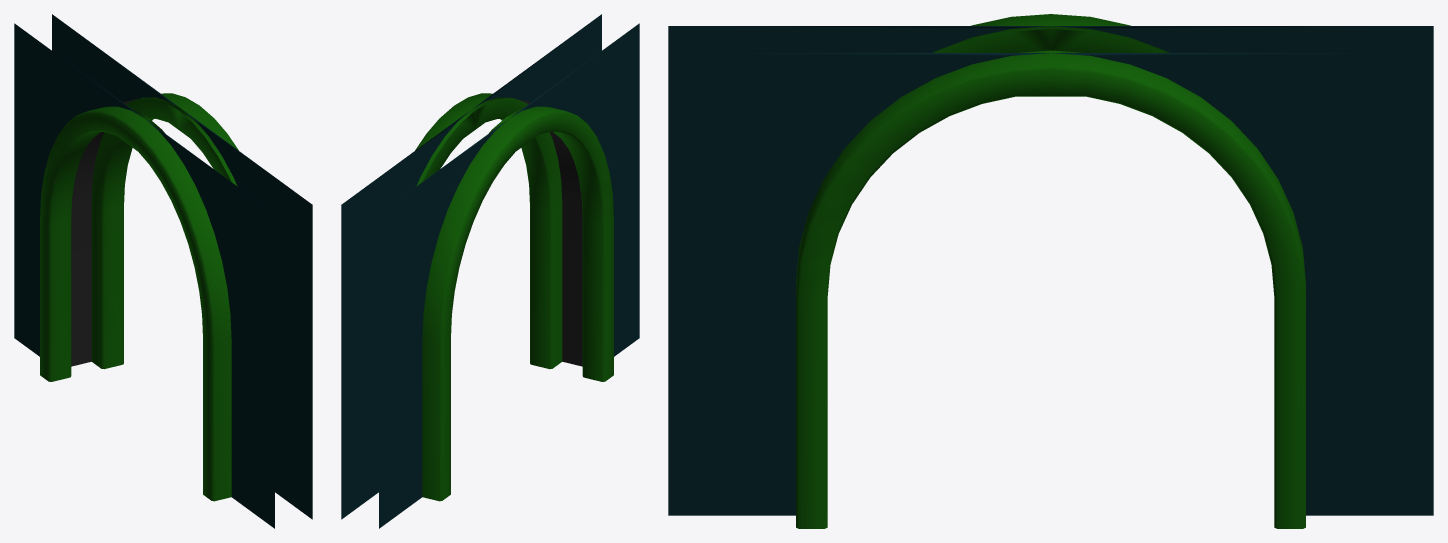
File: DungeonWallGate.FBX
3 renders of one model, left to right at view 1: azimuth 30°, elevation 25°; view 2: azimuth 150°, elevation 25°; view 3: azimuth 270°, elevation 25°, orthographic. The views are drawn at different scales.
Parts seen in each view (by area): view 1: DungeonWallGate0000; view 2: DungeonWallGate0000; view 3: DungeonWallGate0000.
Part boxes in pixels (<box>): DungeonWallGate0000: <box>14,14,312,528</box>; DungeonWallGate0000: <box>341,14,639,528</box>; DungeonWallGate0000: <box>668,14,1433,528</box>.
Size of the model in its own units: 39.37 by 157 by 236.
